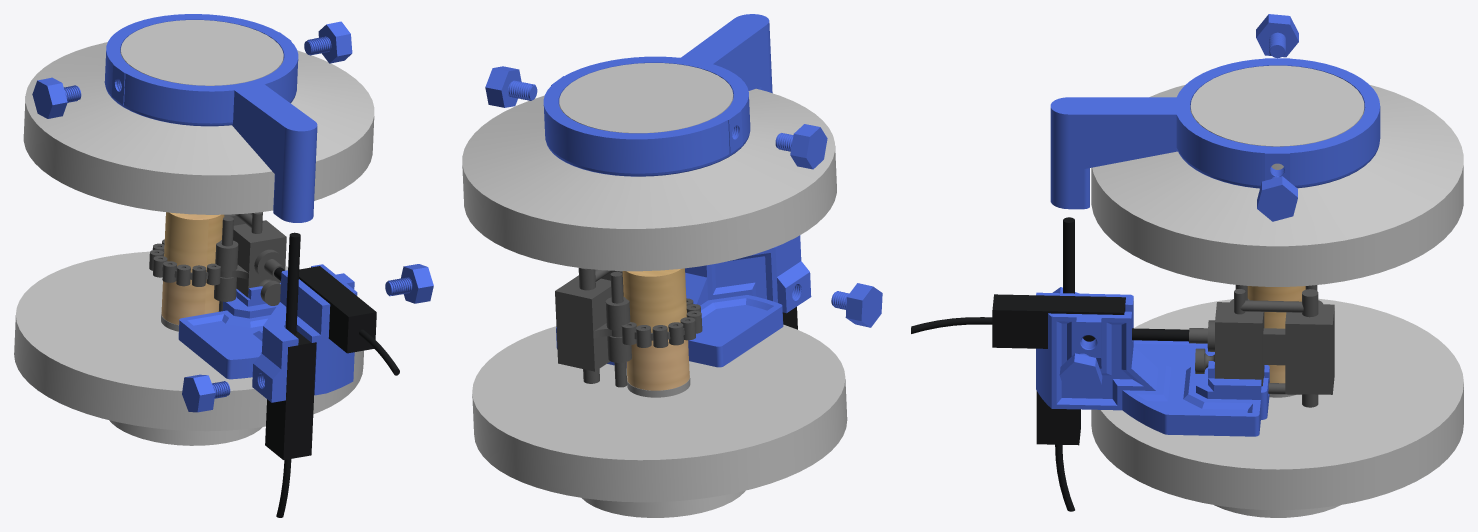
File: UTM.glb
3 renders of one model, left to right at view 1: azimuth 30°, elevation 25°; view 2: azimuth 150°, elevation 25°; view 3: azimuth 270°, elevation 25°, orthographic. The views are drawn at different scales.
Visible parts, largest first — view 1: Body1.012, Body1.005, Body1.001, Body1, Body1.003, Body1.004, Body1.008, Body1.011, Body1.007, Body1.009, Body1.010, Body1.002 (+2 smaller); view 2: Body1.012, Body1.005, Body1.001, Body1, Body1.008, Body1.004, Body1.007, Body1.002, Body1.009, Body9, Body12, Body1.006; view 3: Body1.012, Body1.005, Body1.001, Body1, Body1.008, Body1.011, Body1.003, Body1.004, Body1.010, Body1.007, Body1.009.
Boxes of the visible parts, <box> form: Body1.012: <box>23,20,374,214</box>; Body1.005: <box>14,251,363,445</box>; Body1.001: <box>104,14,317,222</box>; Body1: <box>178,264,357,402</box>; Body1.003: <box>265,232,316,517</box>; Body1.004: <box>161,212,224,324</box>; Body1.008: <box>214,212,286,311</box>; Body1.011: <box>274,266,399,375</box>; Body1.007: <box>32,77,81,118</box>; Body1.009: <box>304,21,352,63</box>; Body1.010: <box>385,264,433,303</box>; Body1.002: <box>182,374,230,412</box>; Body1.012: <box>462,63,836,271</box>; Body1.005: <box>472,324,847,517</box>; Body1.001: <box>543,14,772,176</box>; Body1: <box>556,235,811,367</box>; Body1.008: <box>555,268,631,387</box>; Body1.004: <box>622,268,689,390</box>; Body1.007: <box>775,124,827,169</box>; Body1.002: <box>831,283,882,327</box>; Body1.009: <box>485,66,537,107</box>; Body9: <box>607,322,636,362</box>; Body12: <box>605,297,630,330</box>; Body1.006: <box>627,375,690,397</box>; Body1.012: <box>1091,65,1463,286</box>; Body1.005: <box>1091,298,1463,517</box>; Body1.001: <box>1050,58,1380,209</box>; Body1: <box>1036,292,1269,436</box>; Body1.008: <box>1189,285,1334,407</box>; Body1.011: <box>911,294,1189,348</box>; Body1.003: <box>1036,217,1080,511</box>; Body1.004: <box>1247,286,1305,383</box>; Body1.010: <box>1059,353,1102,398</box>; Body1.007: <box>1256,14,1298,58</box>; Body1.009: <box>1257,176,1297,221</box>.
Bounding box in the file's own units: 155 × 188 × 222.
6 materials, 1 textured.
